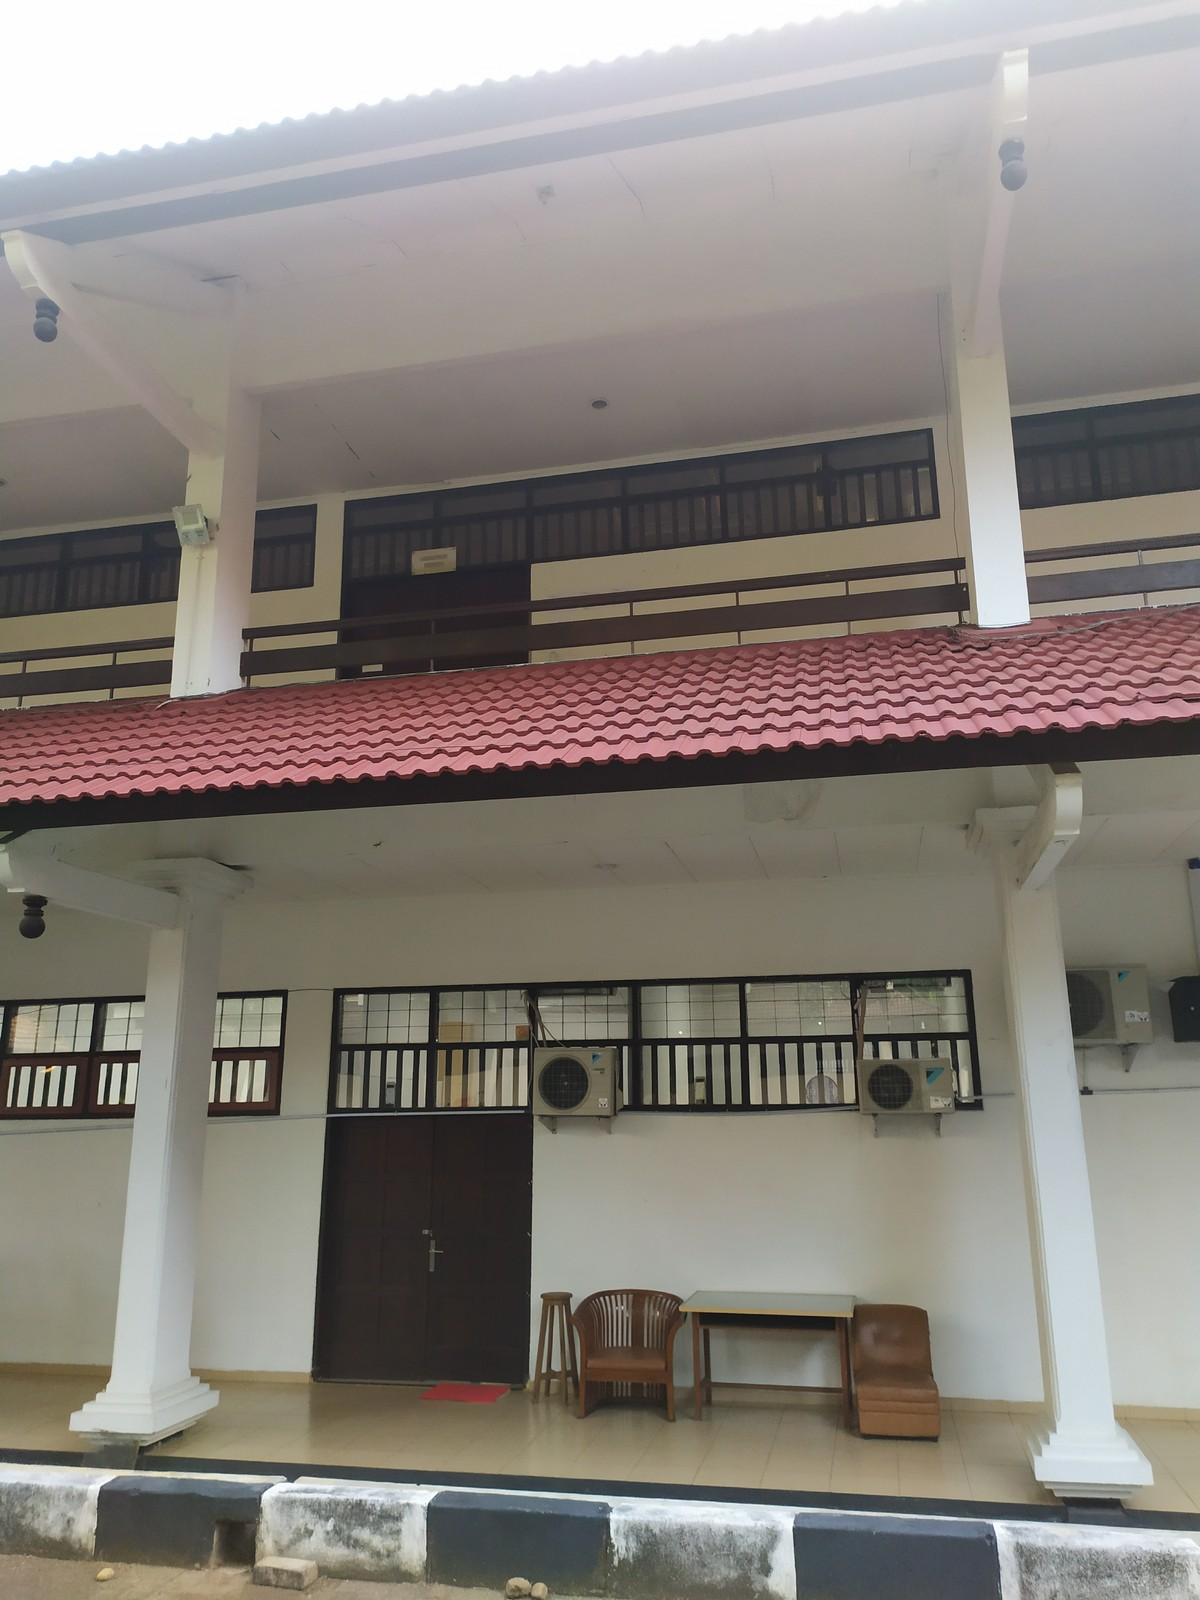concrete column: (995, 869, 1127, 1431), (930, 139, 1042, 632), (113, 913, 229, 1377), (168, 273, 274, 693)
